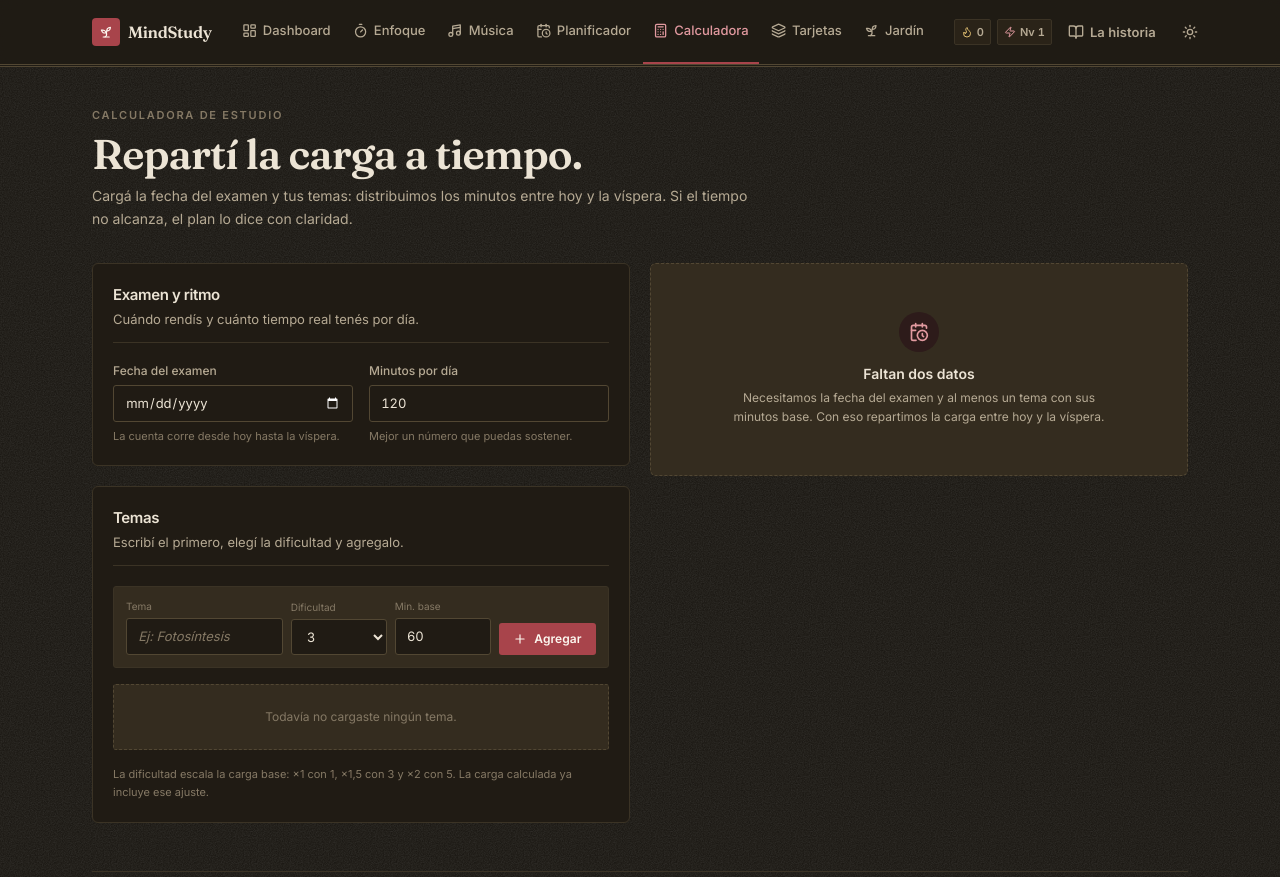
App smoke › agrega un tema con el formulario activo y limpia el campo
In the field named "nombre del tema": (204, 637) [126,618,283,655], type "Fotosíntesis"
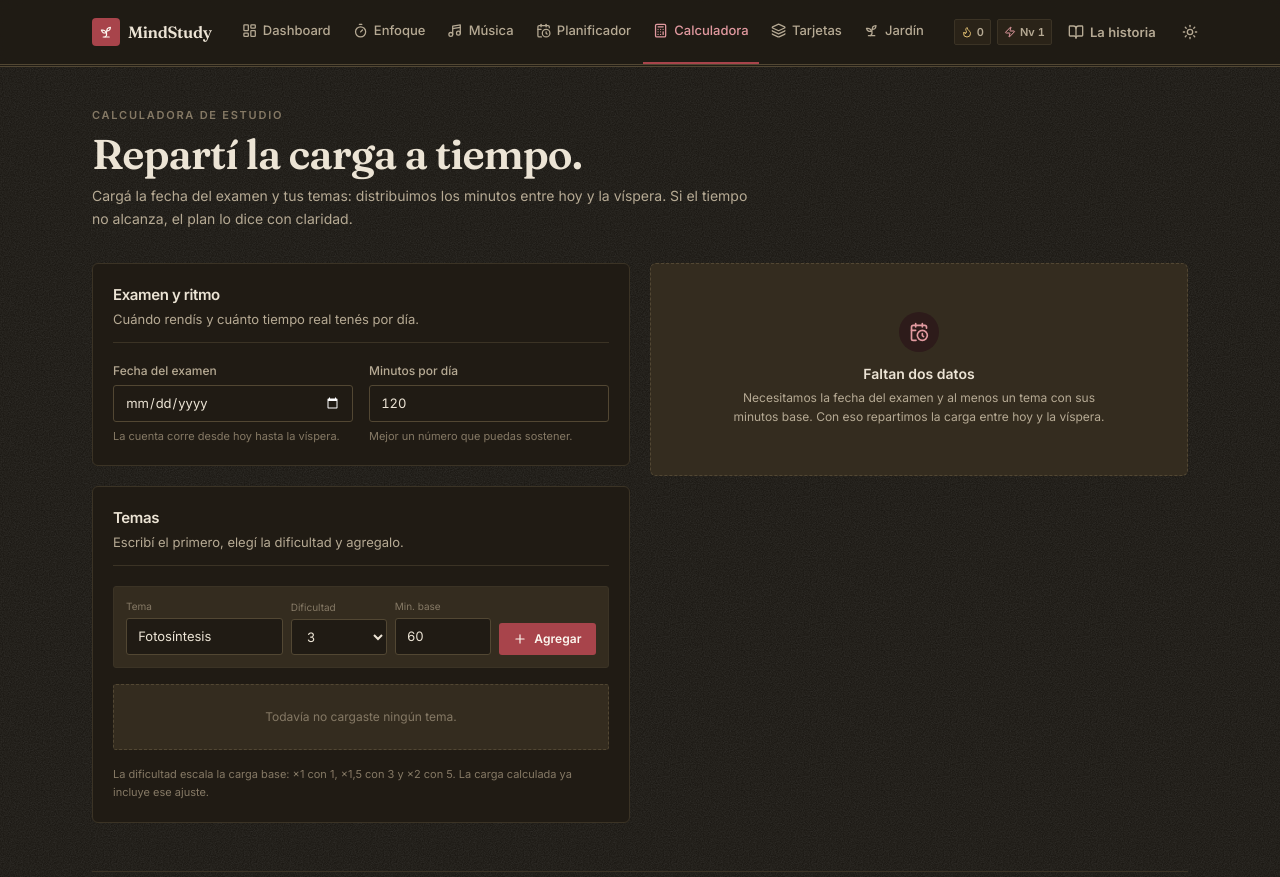
Click the button "Agregar": (547, 639) [499,623,596,655]
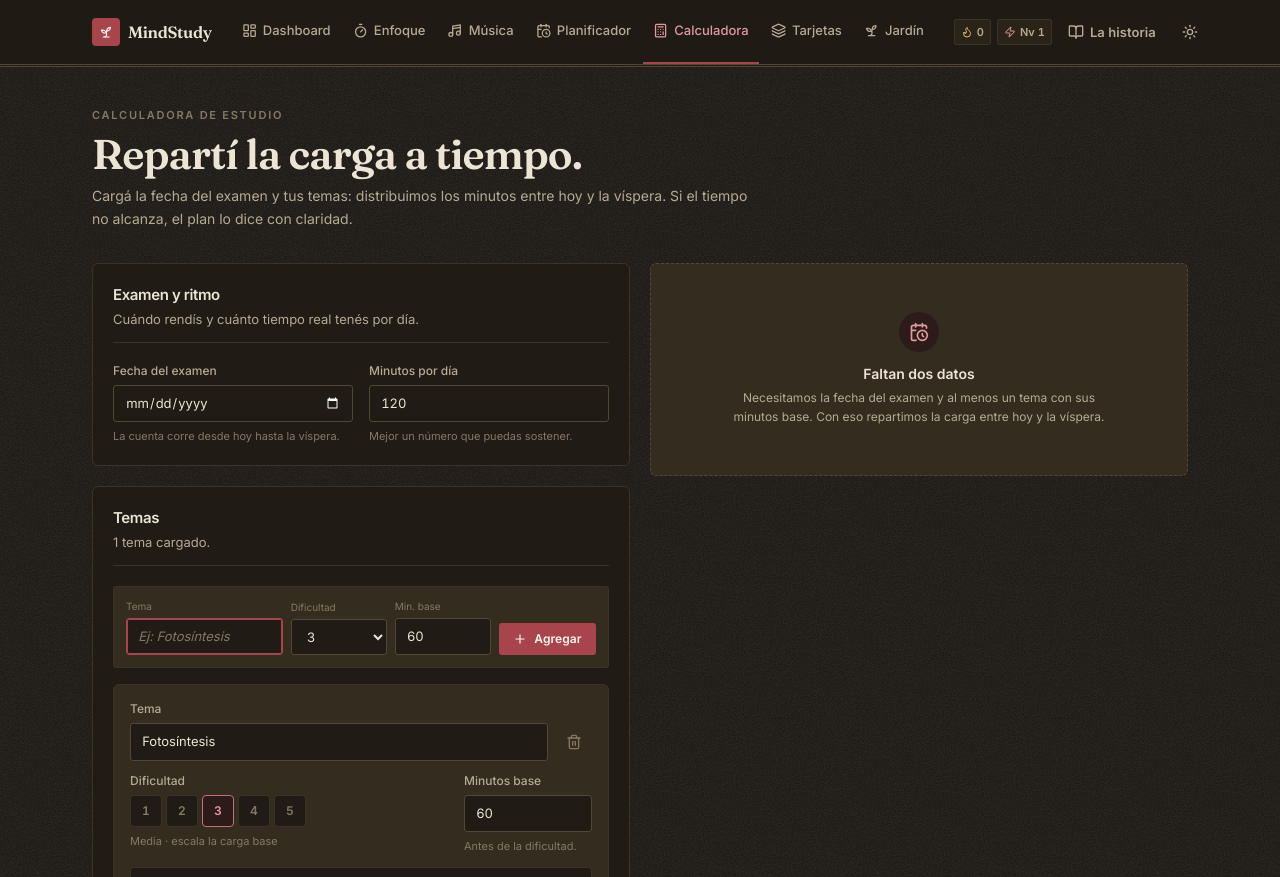
Now the text "1 tema cargado." is shown, box [113,533,210,553]
Now the 2nd field showing "Fotosíntesis" is shown, box [130,723,548,761]
Now the field named "nombre del tema" is empty, box [126,618,283,655]
